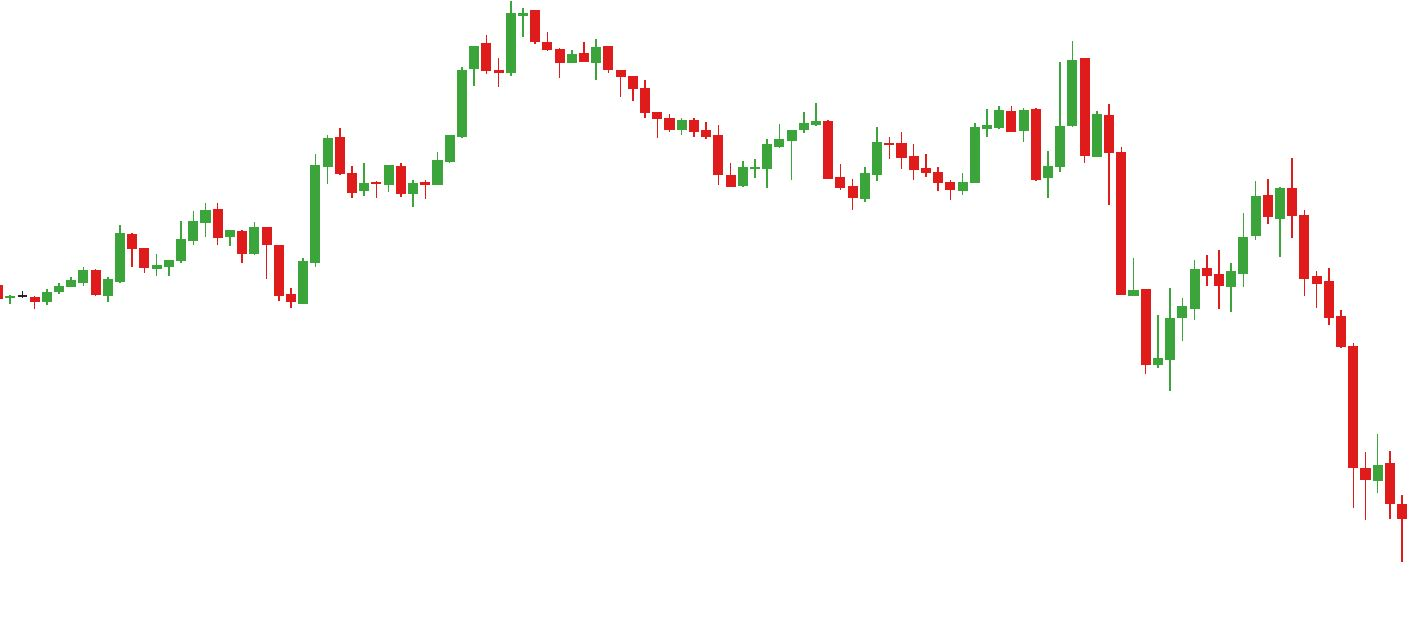buy: (153, 215, 309, 309), (727, 127, 872, 214)
